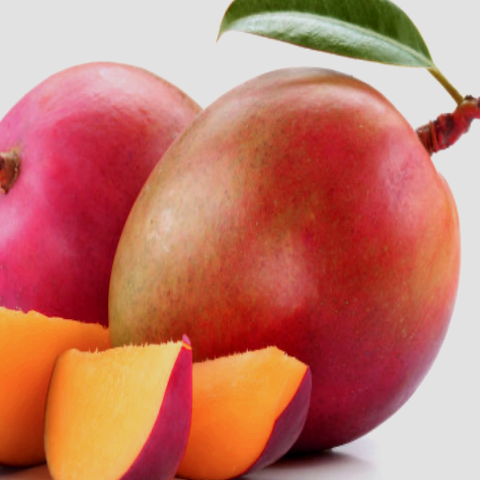mango: (88, 64, 479, 458)
